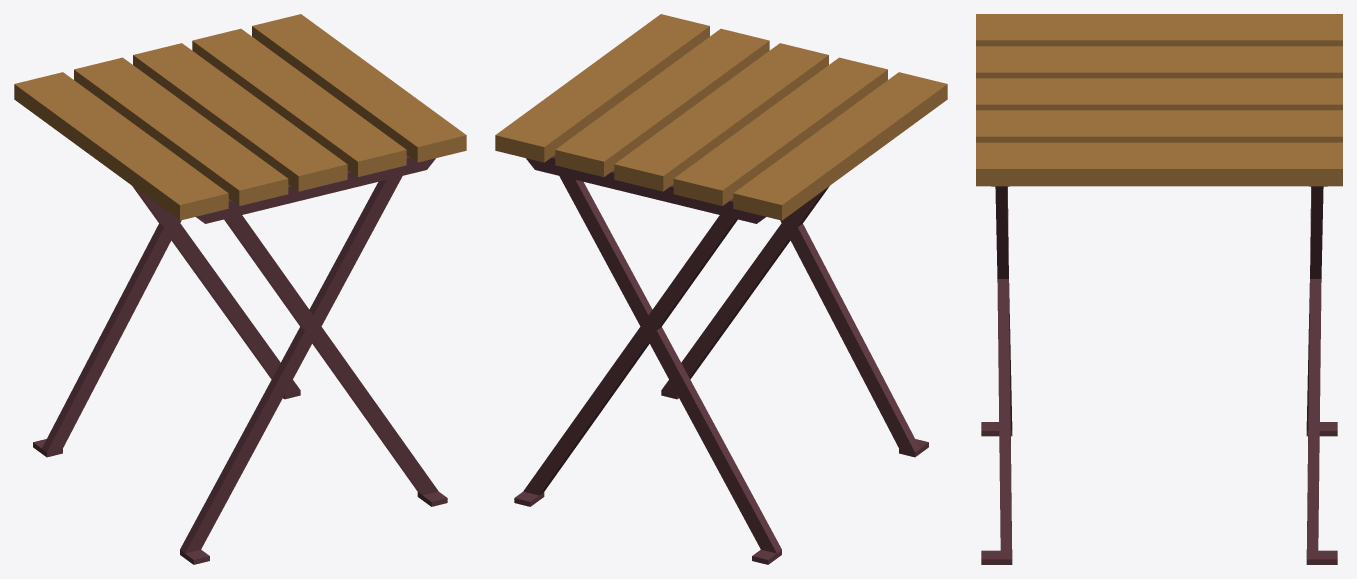
The model's file is table-outside-small.fbx.
The picture shows the model from 3 angles, left to right: view 1: azimuth 30°, elevation 25°; view 2: azimuth 150°, elevation 25°; view 3: azimuth 270°, elevation 25°; orthographic projection. The views are drawn at different scales.
Visible parts, largest first — view 1: table-outside-small; view 2: table-outside-small; view 3: table-outside-small.
Part boxes in pixels (x1,y1,x2,y2): table-outside-small: (14,14,466,564); table-outside-small: (495,14,947,564); table-outside-small: (976,14,1342,564).
Size of the model in its own units: 0.55 by 0.6698 by 0.55.
